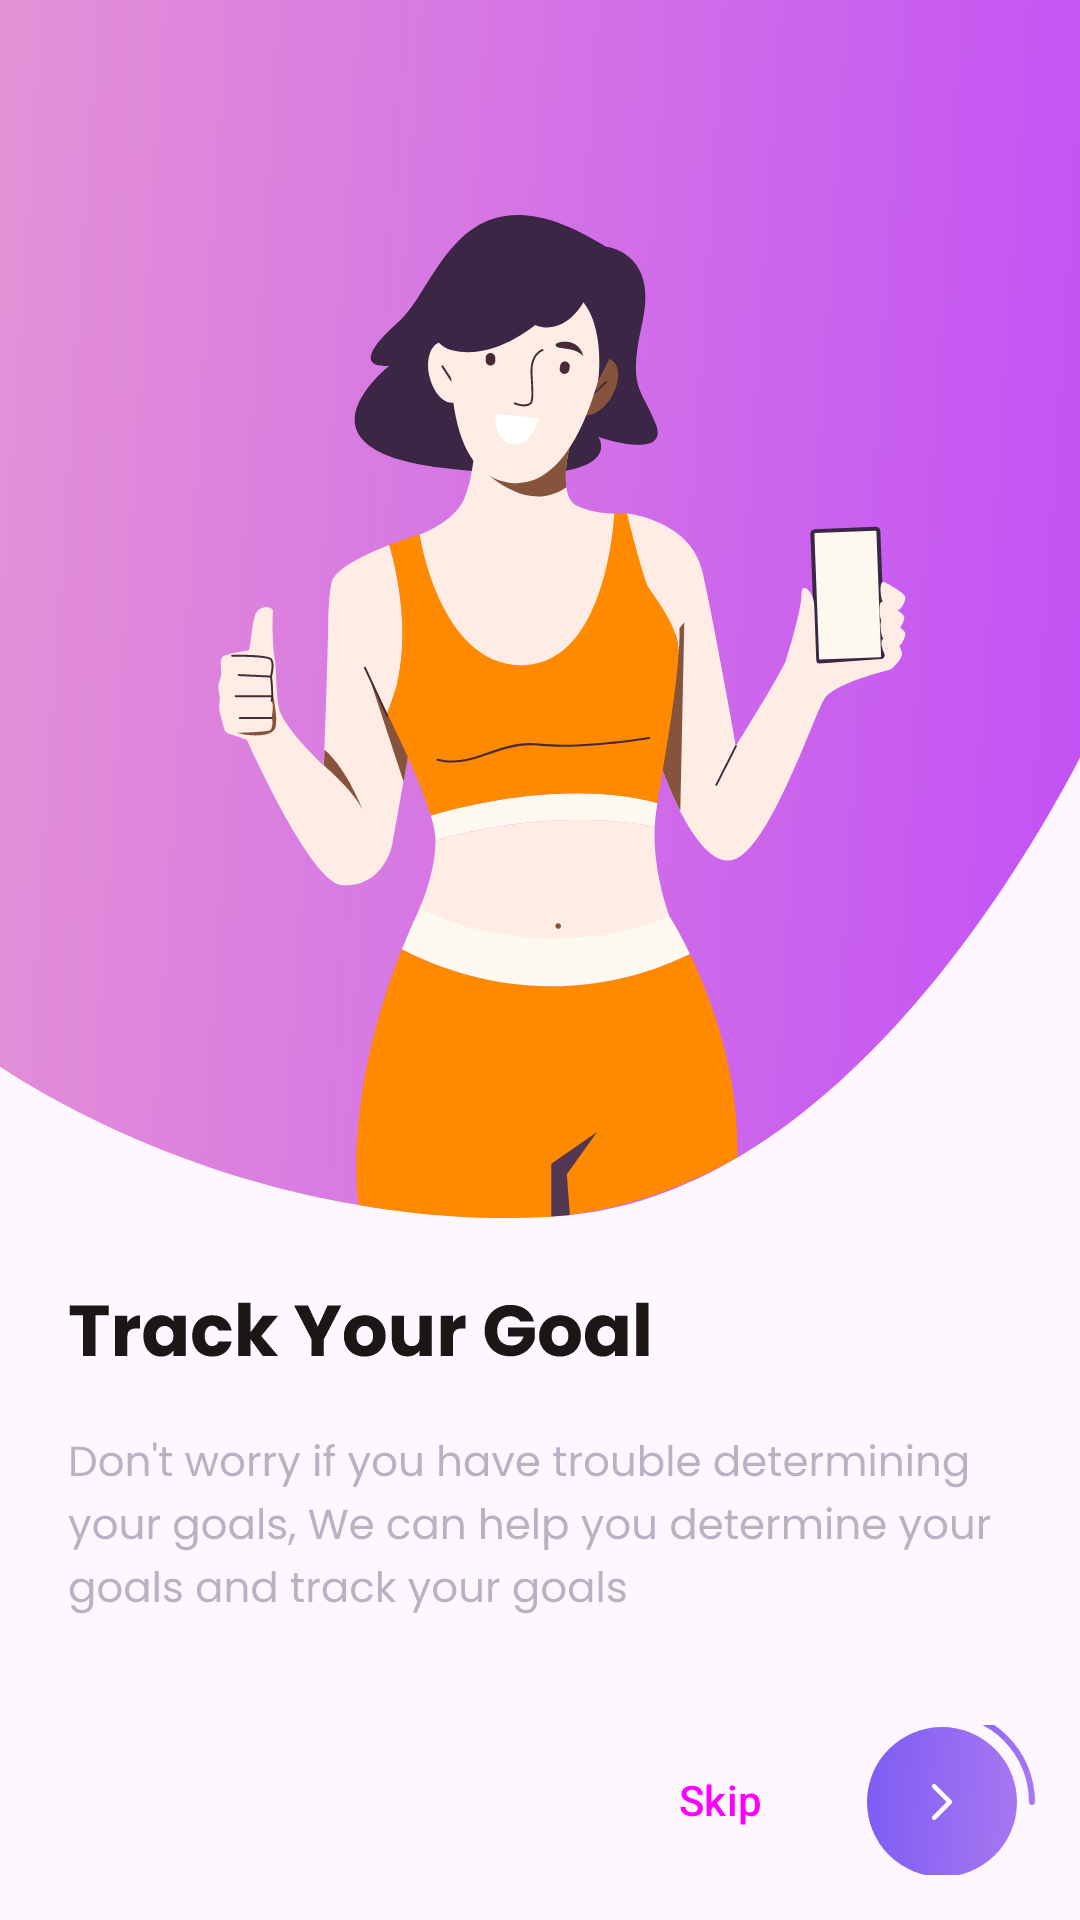

Named icons in this screenshot (1080*1920) and their centers, [x,y]:
NEXT ONBOARDING: [951,1800]
